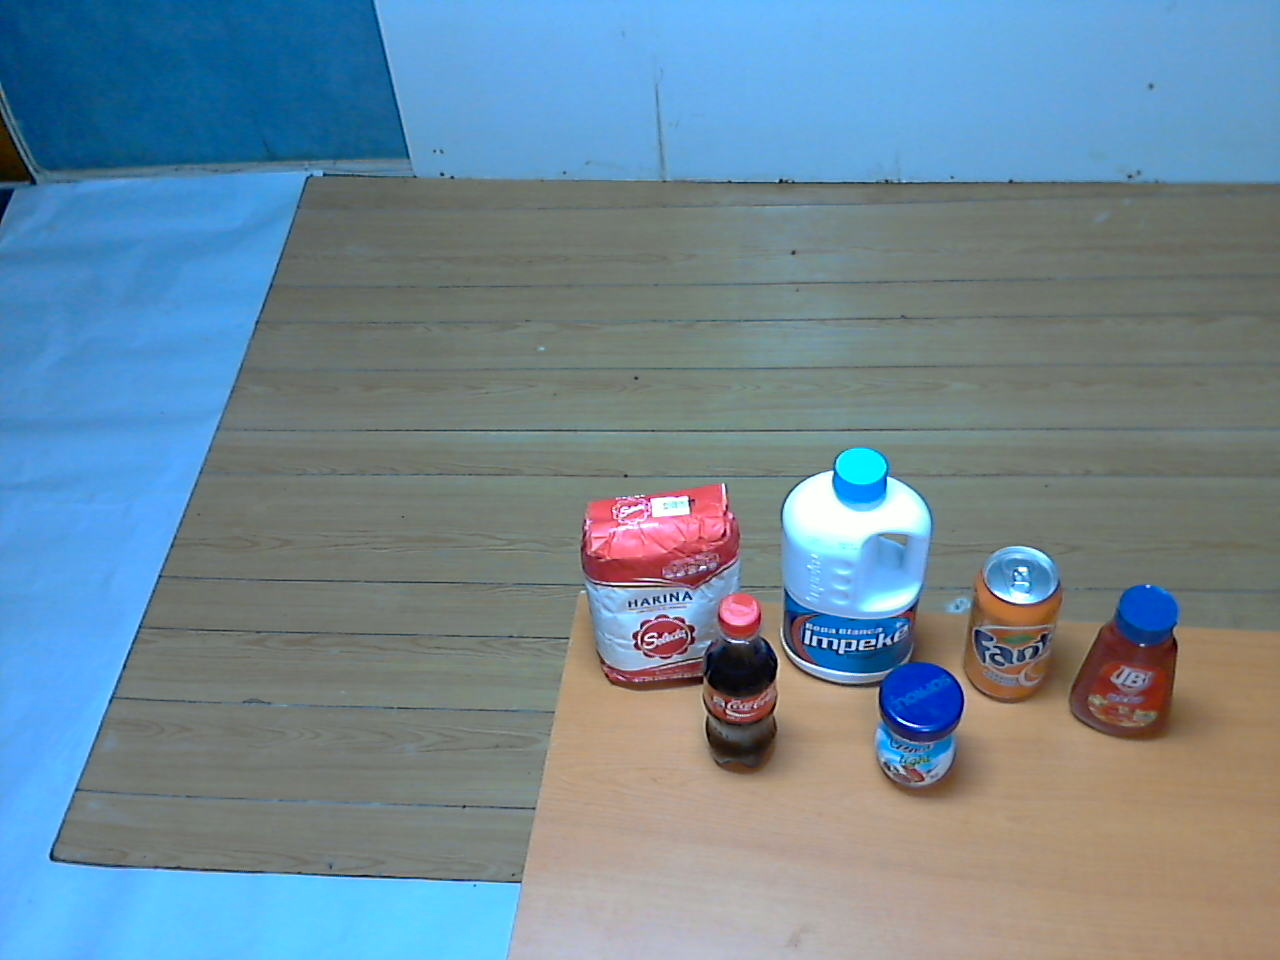cloro: (772, 443, 934, 692)
coca: (692, 595, 788, 784)
crema: (861, 661, 977, 804)
harina: (566, 473, 761, 700)
ketchup: (1057, 569, 1186, 751)
lata: (951, 539, 1071, 717)
